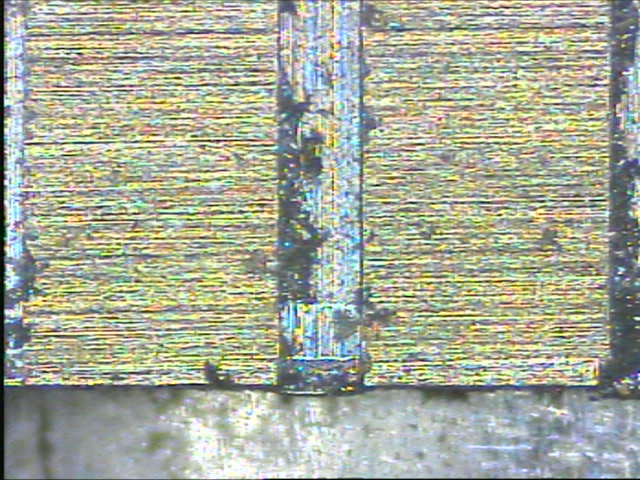line: (273, 1, 368, 396)
